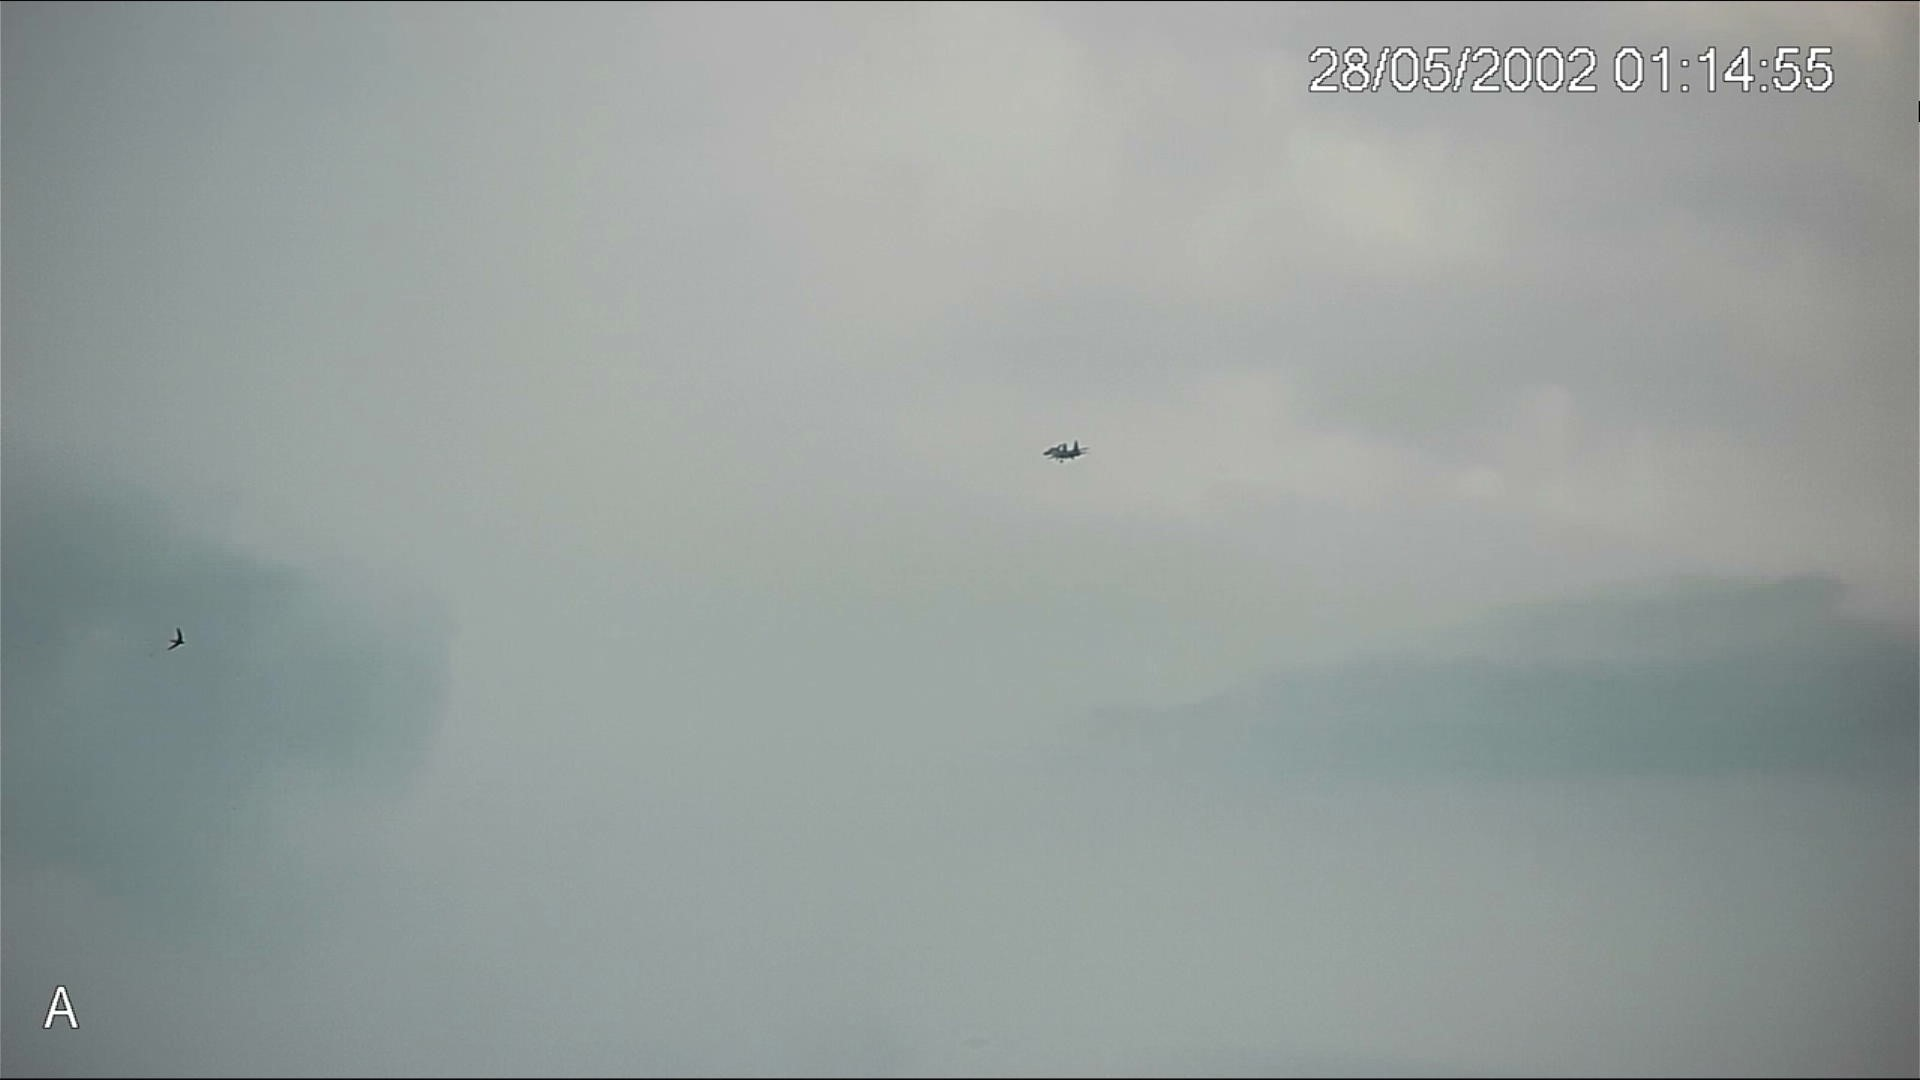SU_30: (1039, 439, 1093, 464)
